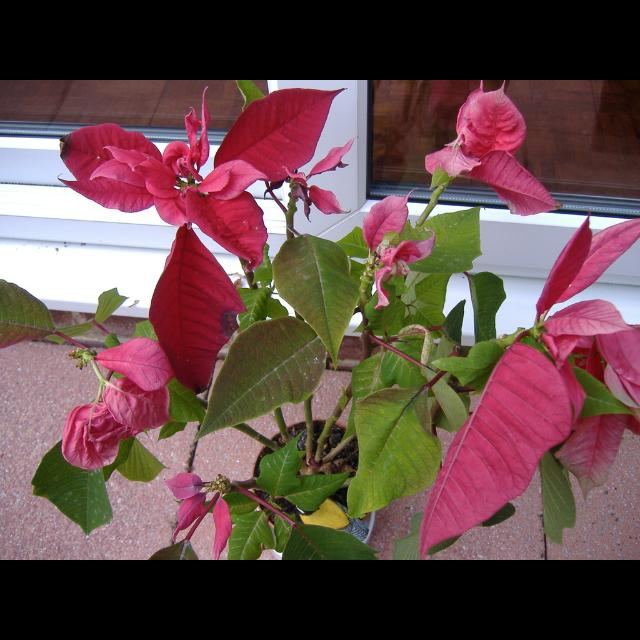Flower: (153, 466, 224, 548)
